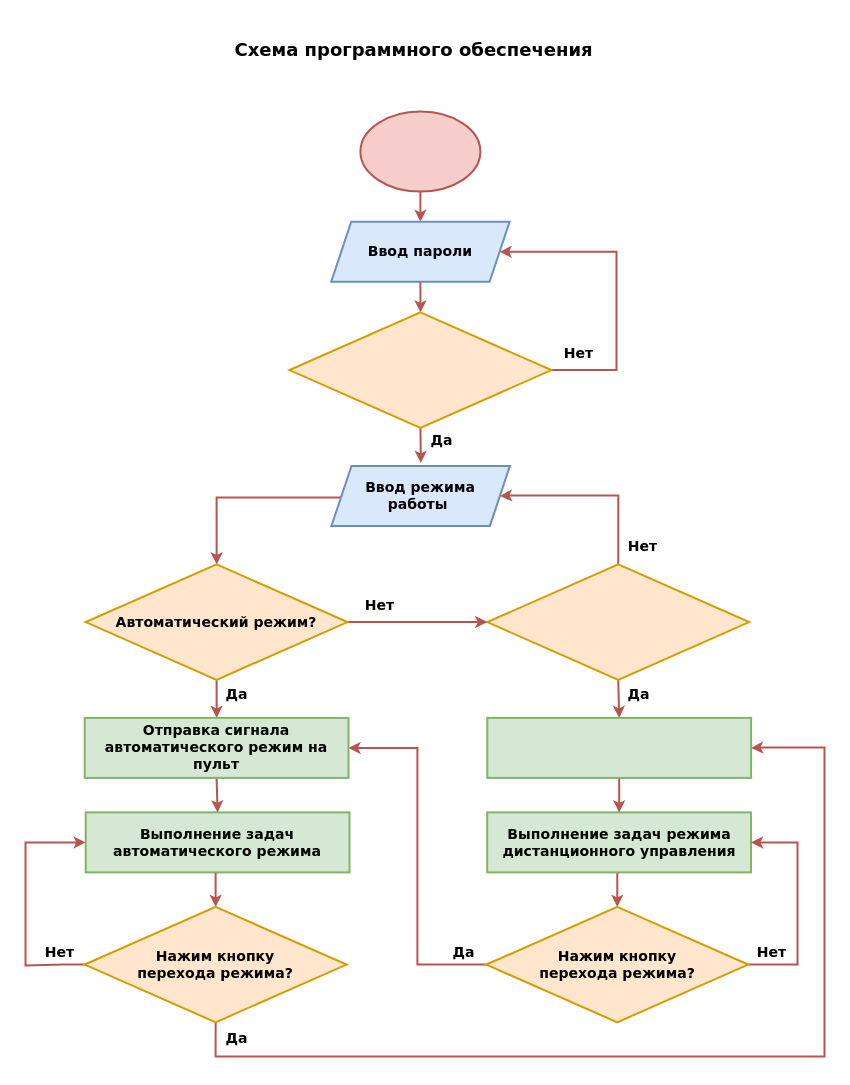
This 850x1085 diagram has some shape labels left out. The box of each missing label's shape, as (x1, y1, x2, y2) in pixels:
Начало: (359, 110, 481, 192)
Отправка сигнала режима дистанционного режима на пульт: (486, 716, 752, 778)
Правильный пароль?: (288, 311, 552, 428)
Режим дистанционного управления?: (486, 563, 750, 680)
